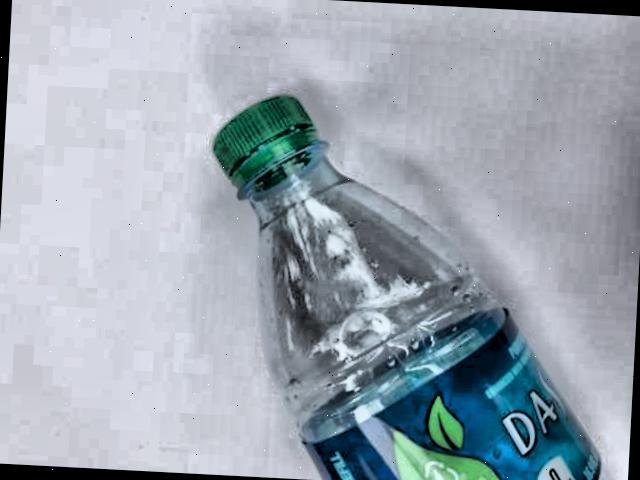Bottles: (191, 76, 640, 480)
